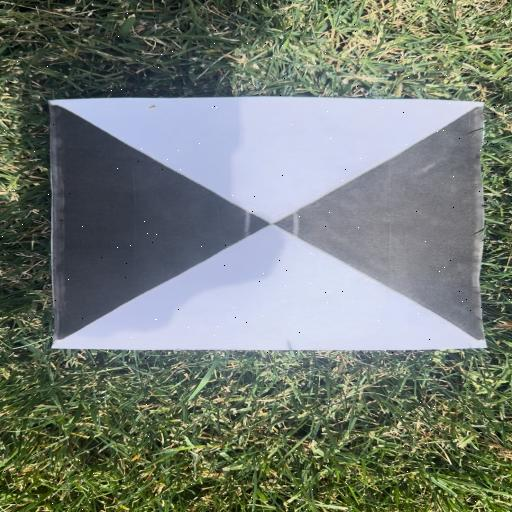target: (52, 103, 485, 351)
